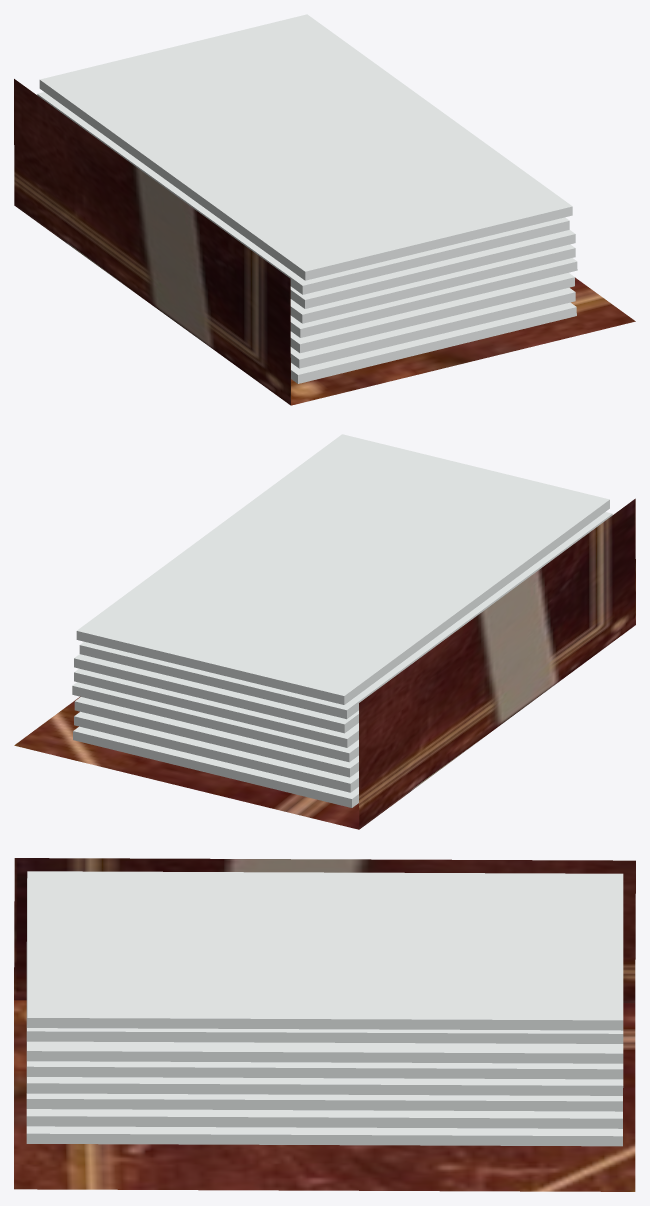
File: libroB.obj
3 renders of one model, top to bottom at view 1: azimuth 30°, elevation 25°; view 2: azimuth 150°, elevation 25°; view 3: azimuth 270°, elevation 25°, orthographic. The views are drawn at different scales.
Parts seen in each view (by area): view 1: polySurface9; view 2: polySurface9; view 3: polySurface9.
Boxes of the visible parts, box(x1,y1,x2,y2) form: polySurface9: box(14, 14, 635, 405); polySurface9: box(14, 434, 635, 829); polySurface9: box(14, 858, 635, 1191).
Bounding box in the file's own units: 1.02 × 0.3639 × 1.42.
Materials: 2 (2 with a texture image).
